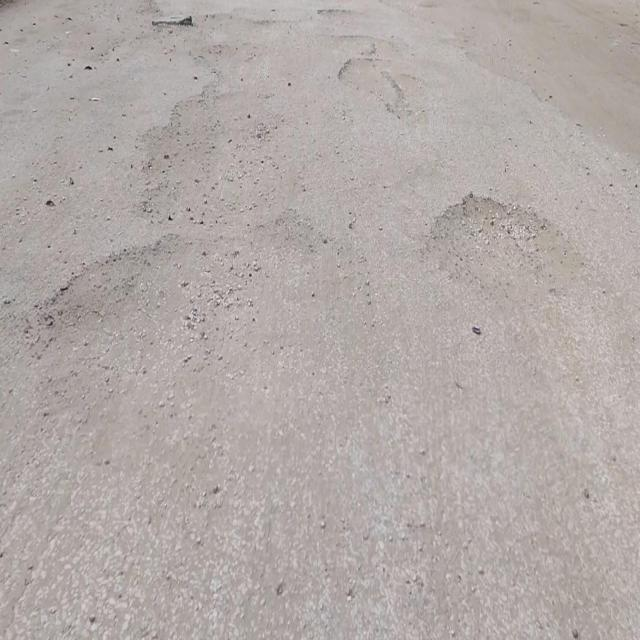Potholes: (422, 188, 586, 314), (336, 58, 408, 119)
